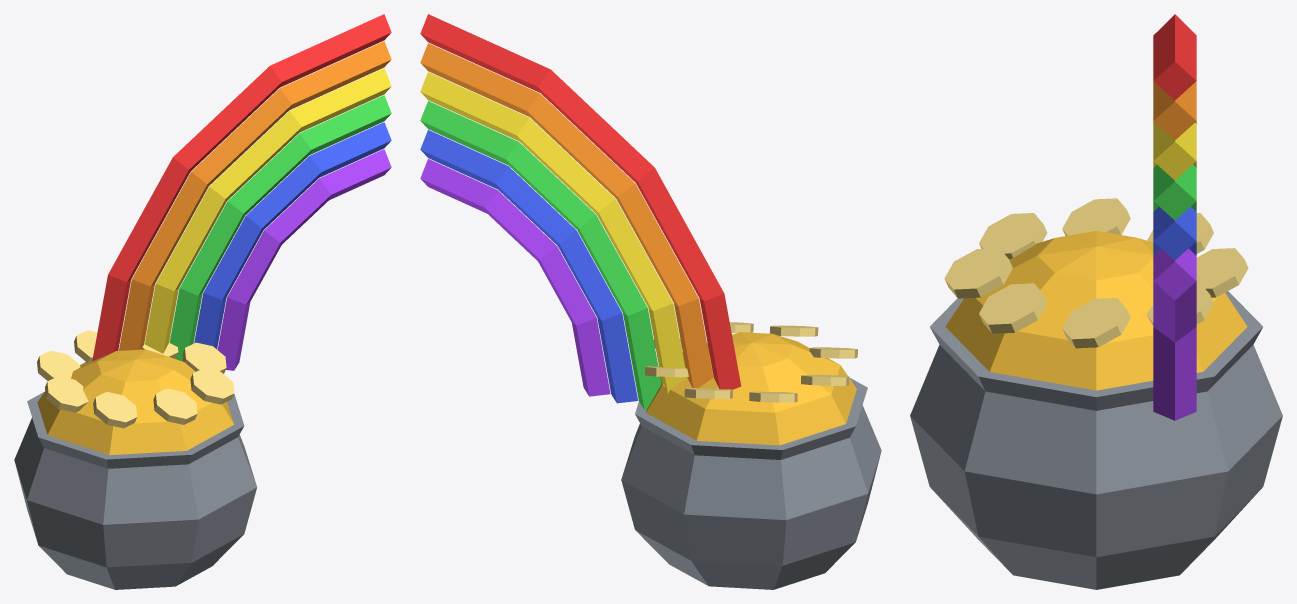
File: PotOfGold.fbx
The picture shows the model from 3 angles, left to right: view 1: azimuth 30°, elevation 25°; view 2: azimuth 150°, elevation 25°; view 3: azimuth 270°, elevation 25°; orthographic projection. The views are drawn at different scales.
Parts seen in each view (by area): view 1: PotOfGold; view 2: PotOfGold; view 3: PotOfGold.
Part boxes in pixels (x1,y1,x2,y2): PotOfGold: [14, 14, 391, 589]; PotOfGold: [420, 14, 881, 589]; PotOfGold: [910, 14, 1282, 589].
Bounding box in the file's own units: 6.7 × 7.62 × 3.8.
Materials: 1 (1 with a texture image).
